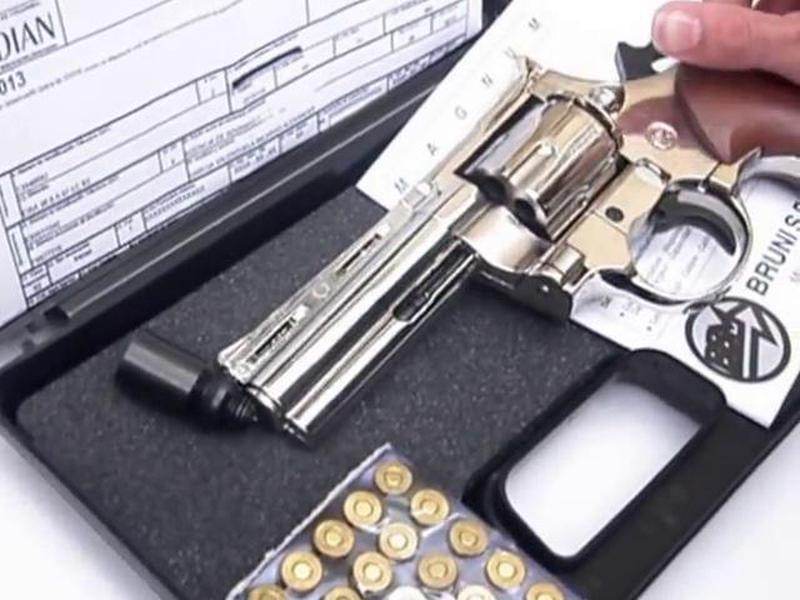Revolver: (174, 35, 800, 444)
